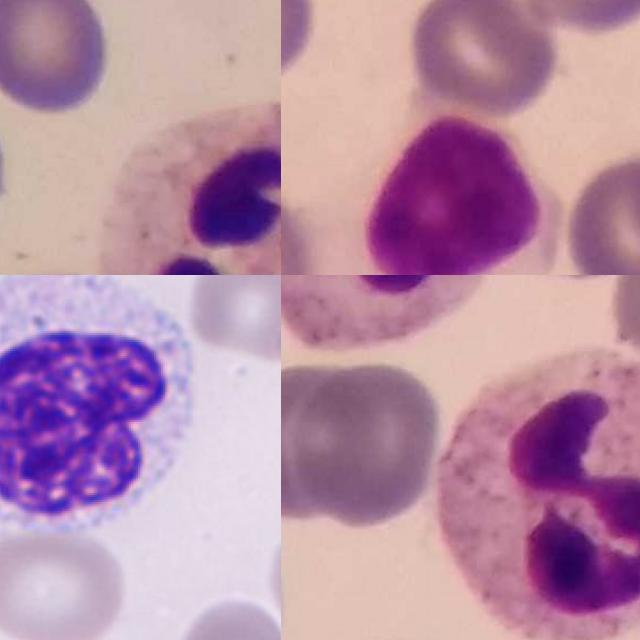Lymphocyte: (0, 275, 210, 548), (314, 112, 560, 275)
Neutrophil: (432, 347, 640, 640), (102, 99, 281, 275), (281, 275, 499, 351)
RBC: (0, 519, 132, 640), (184, 275, 281, 369), (164, 592, 281, 640)
